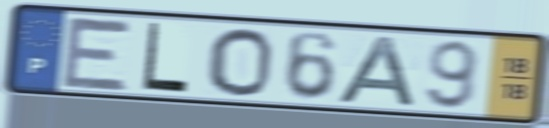6: (284, 29, 339, 103)
9: (423, 38, 483, 112)
A: (333, 33, 421, 110)
E: (58, 13, 136, 94)
L: (139, 19, 192, 95)
O: (206, 25, 275, 99)
